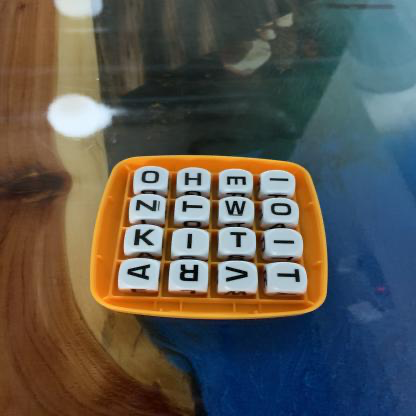a: (119, 259, 161, 291)
e: (221, 170, 255, 192)
h: (177, 168, 212, 191)
i: (173, 229, 212, 257), (267, 230, 304, 256), (263, 171, 297, 194)
k: (125, 226, 164, 254)
o: (265, 199, 300, 224), (135, 167, 169, 190)
r: (170, 260, 209, 290)
t: (269, 263, 308, 294), (220, 228, 257, 255), (176, 196, 211, 221)
v: (220, 262, 259, 292)
w: (220, 198, 256, 223)
z: (131, 194, 167, 219)
